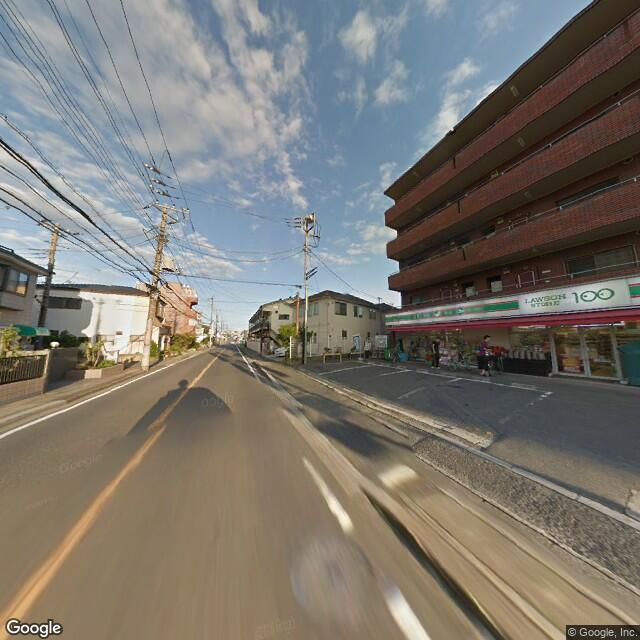lawson: (383, 272, 640, 328)
